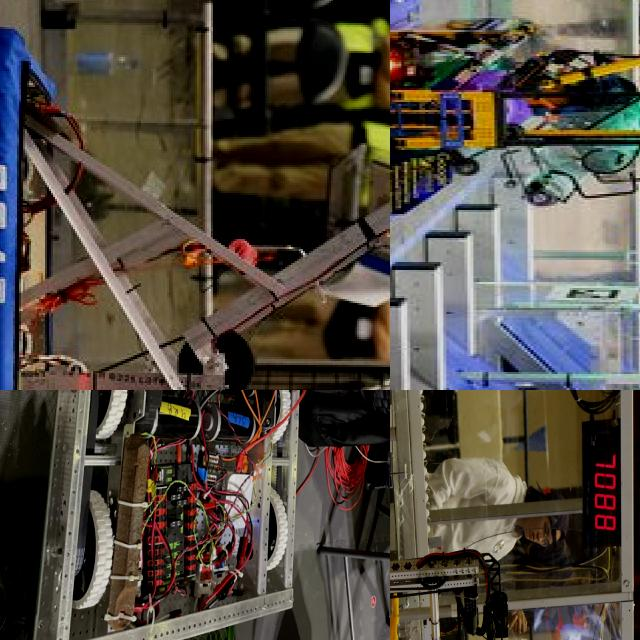FRC-Robots: (0, 16, 390, 390), (45, 390, 389, 640), (390, 0, 640, 258), (390, 444, 531, 640)
